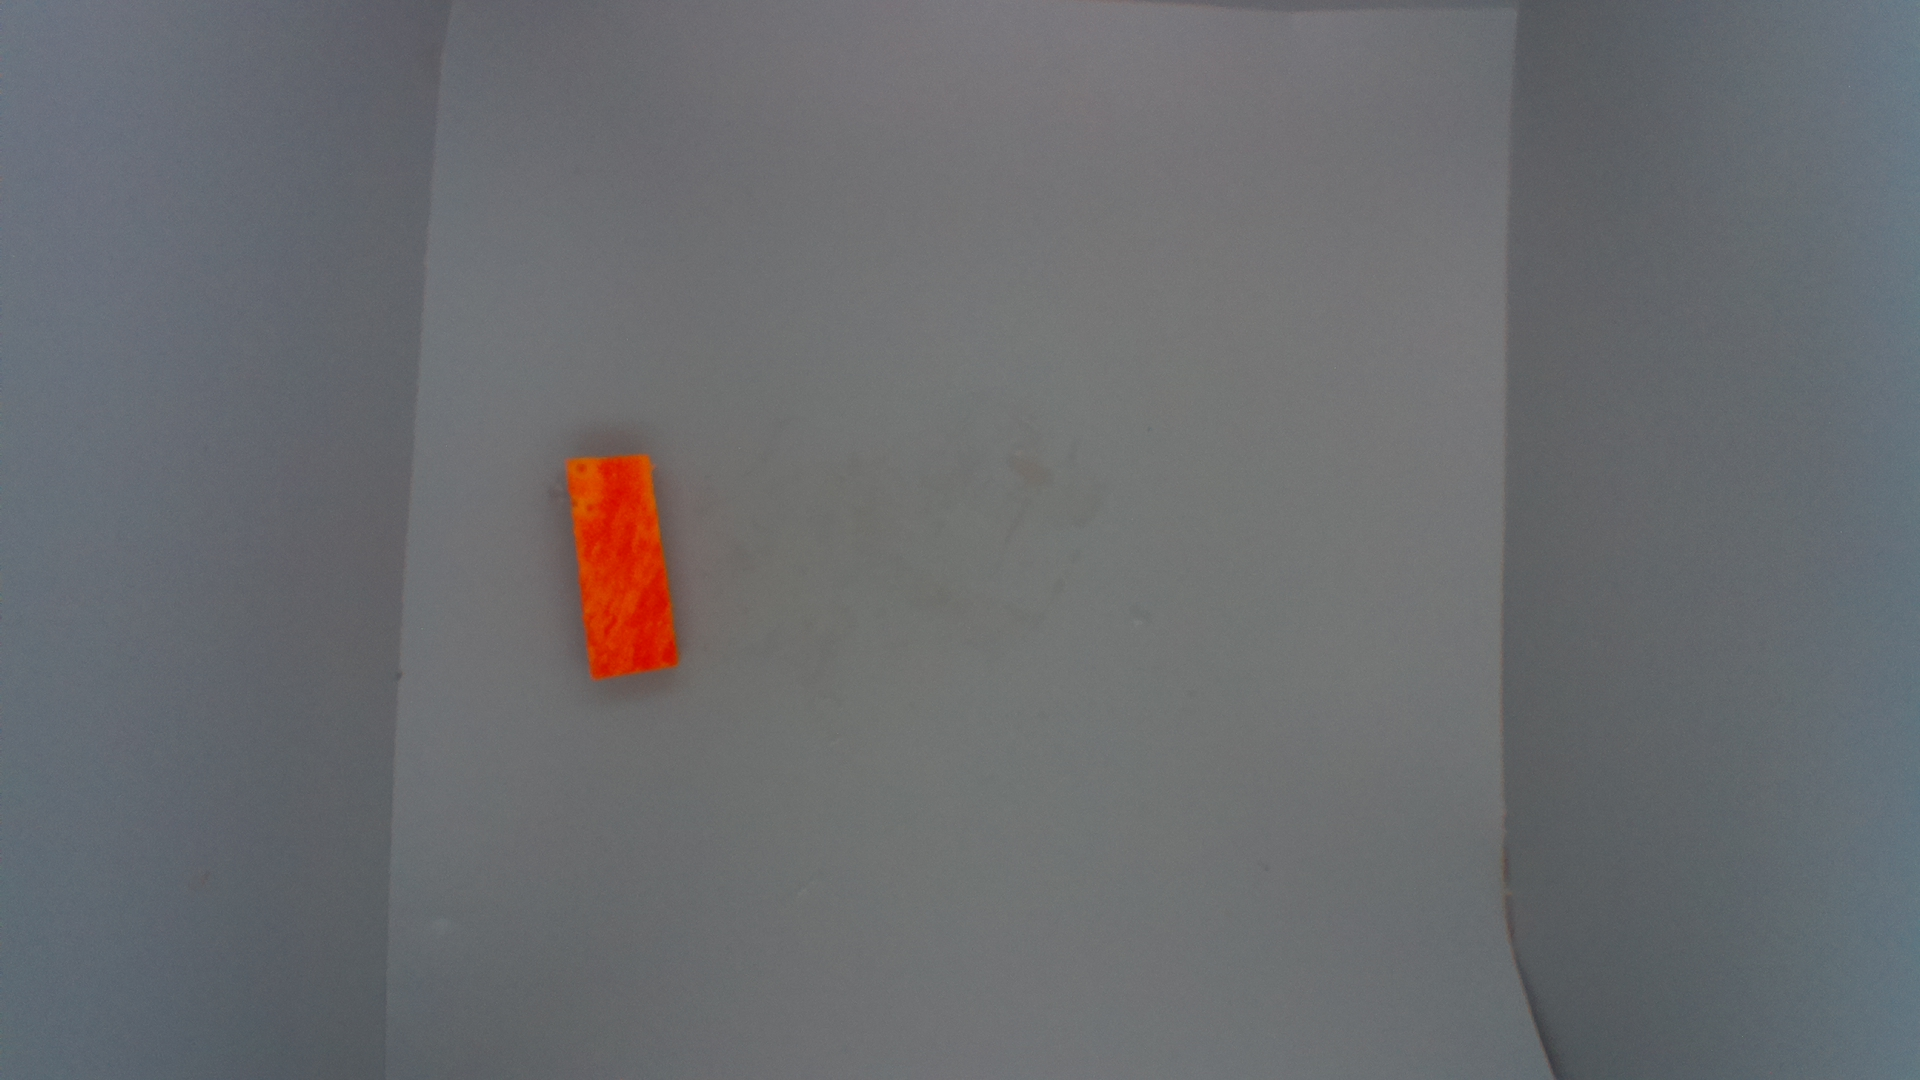carrot: (559, 454, 682, 683)
